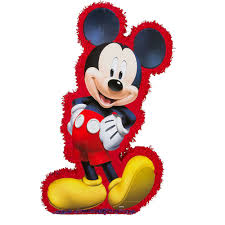mickey: (45, 7, 167, 213)
